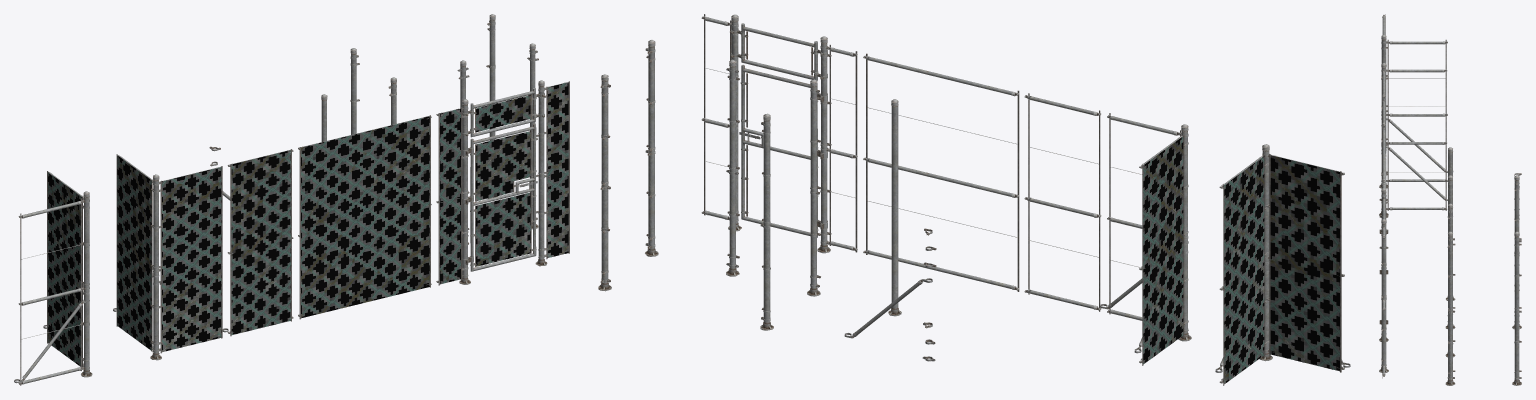
Rendered from modular_chainlink_fence.glb.
3 renders of one model, left to right at view 1: azimuth 30°, elevation 25°; view 2: azimuth 150°, elevation 25°; view 3: azimuth 270°, elevation 25°, orthographic. The views are drawn at different scales.
Size of the model in its own units: 8.11 by 2.52 by 2.15.
2 materials, 2 textured.
